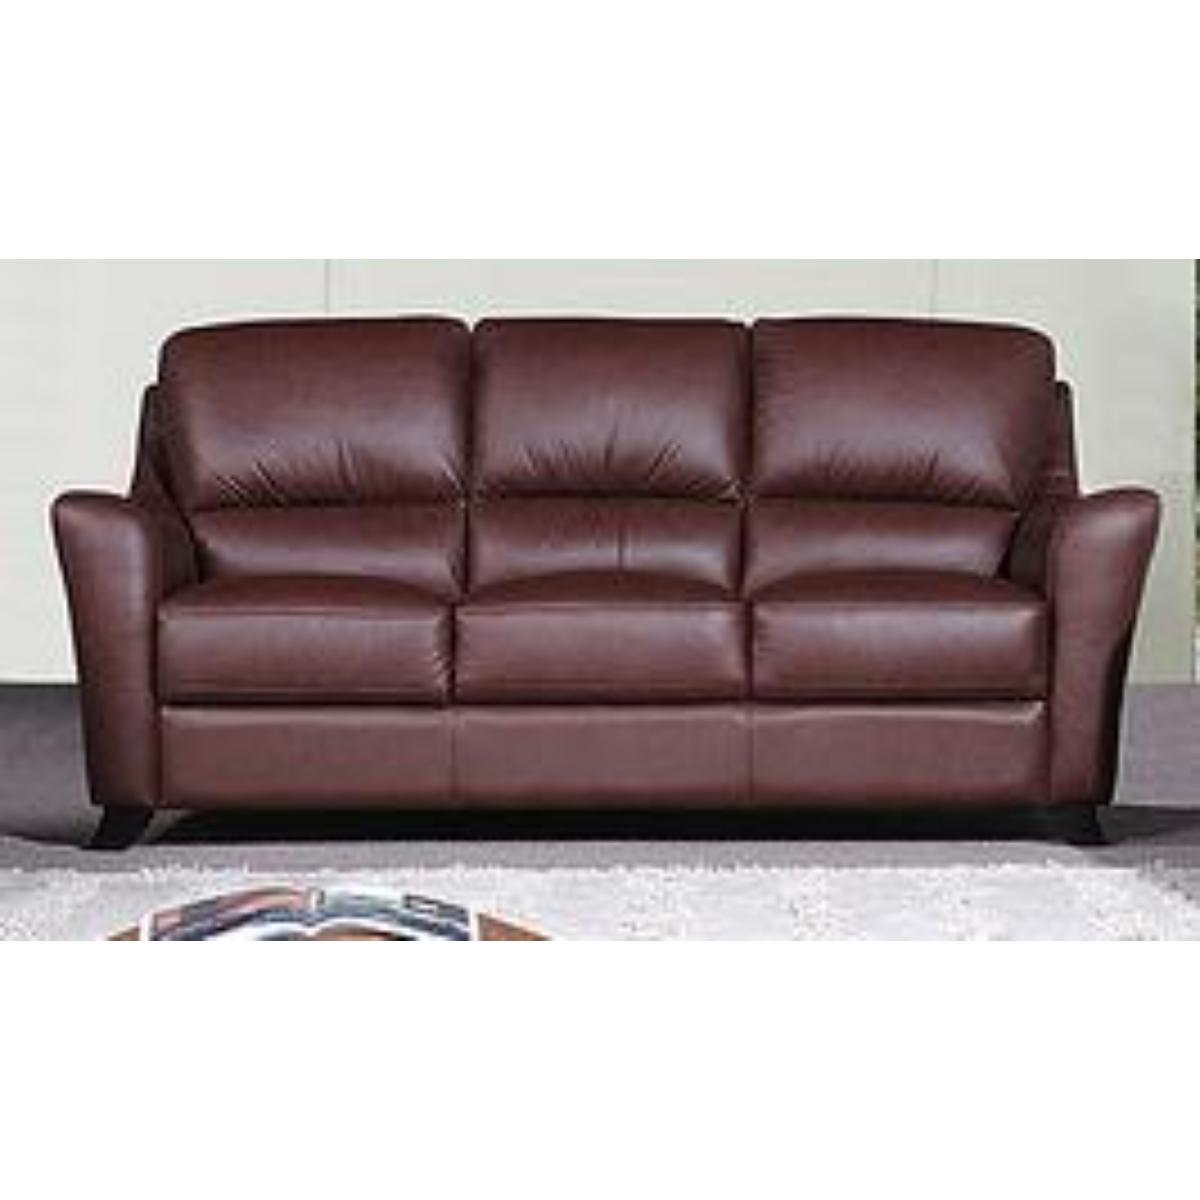Sofa: (49, 314, 1159, 846)
